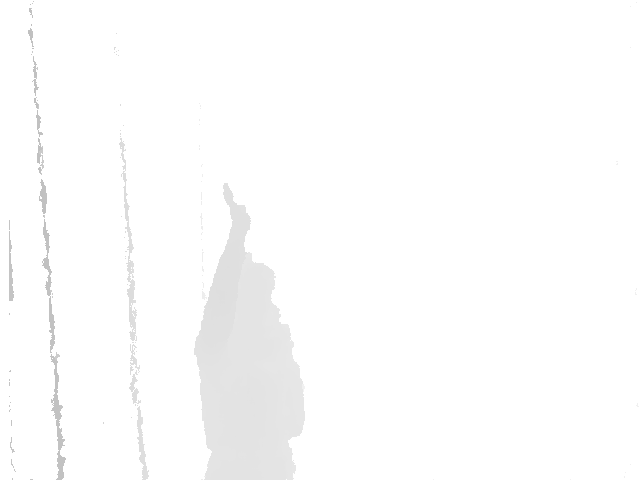hand: (221, 181, 253, 237)
head: (233, 250, 278, 324)
person: (196, 181, 306, 480)
